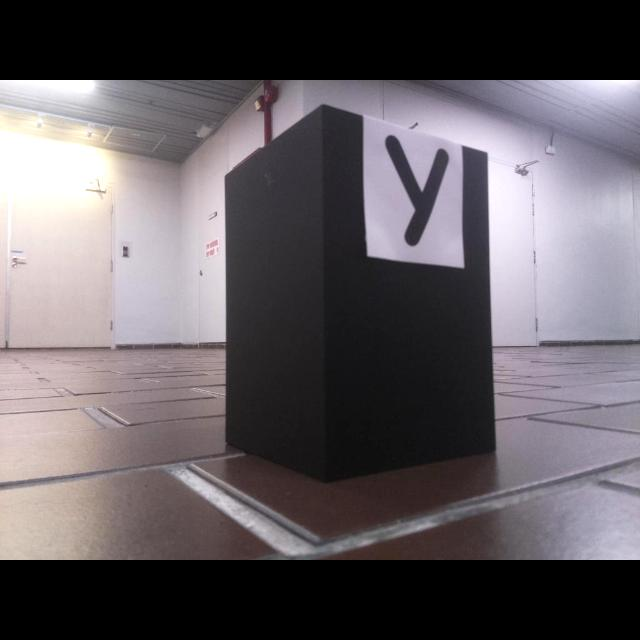Y: (386, 136, 449, 246)
